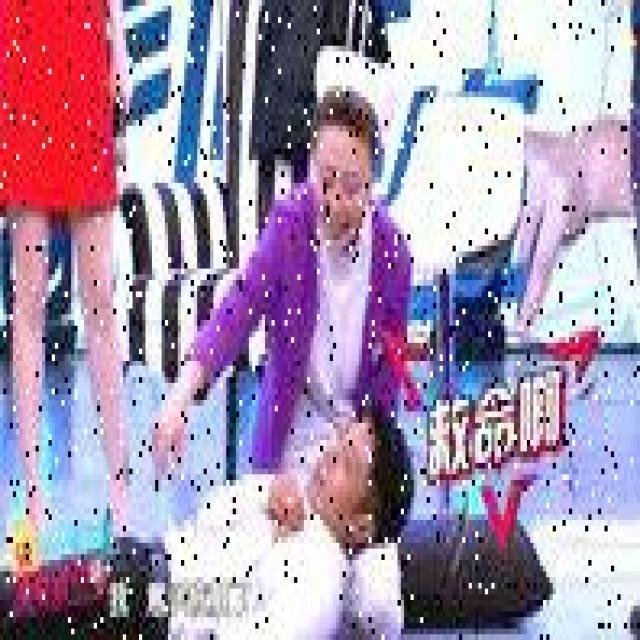fall: (0, 400, 417, 634)
